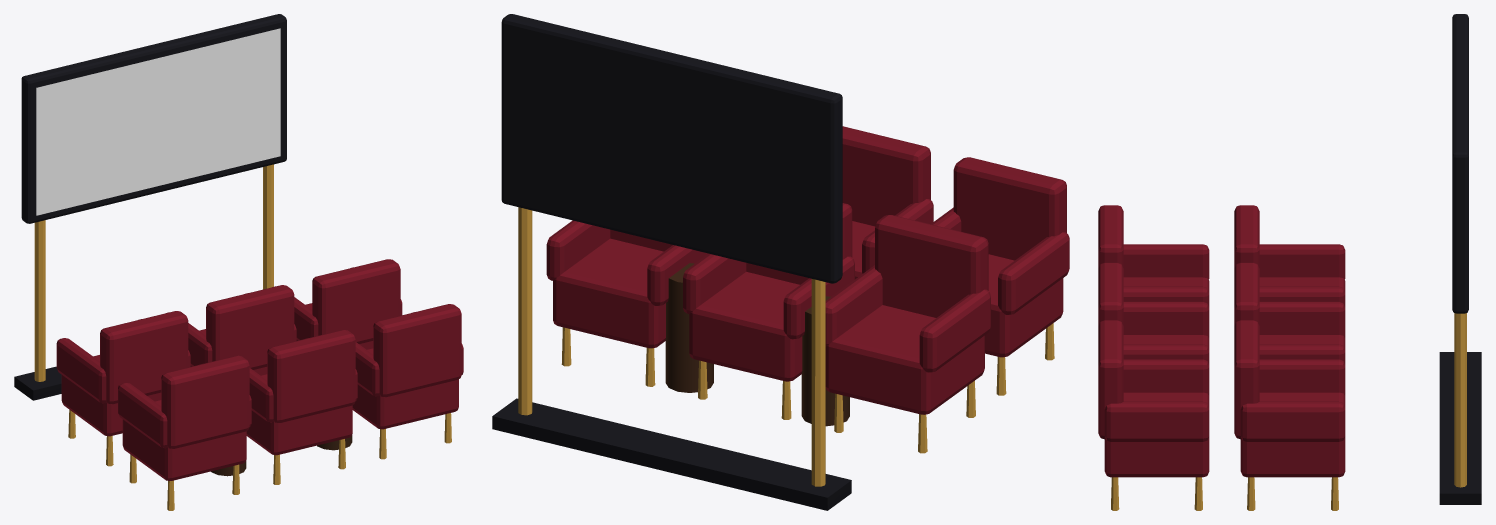
File: keno-lounge.glb
3 views of the same model, side by side, from view 1: azimuth 30°, elevation 25°; view 2: azimuth 150°, elevation 25°; view 3: azimuth 270°, elevation 25° (orthographic). The views are drawn at different scales.
Parts seen in each view (by area): view 1: keno-lounge_lod0; view 2: keno-lounge_lod0; view 3: keno-lounge_lod0.
Part boxes in pixels (x1,y1,x2,y2): keno-lounge_lod0: [14, 14, 463, 510]; keno-lounge_lod0: [492, 14, 1069, 510]; keno-lounge_lod0: [1098, 14, 1481, 510].
Size of what is drawn, in the model's own units: 1.86 by 1.85 by 1.83.
